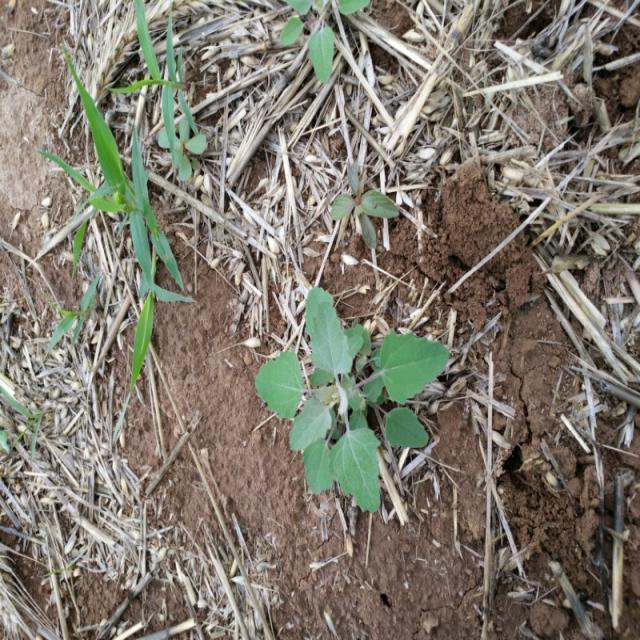goosefoots: (250, 287, 468, 510)
